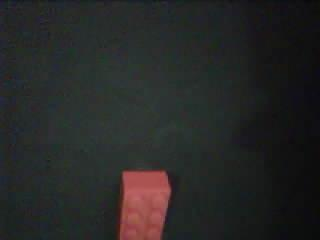lego: (115, 170, 171, 240)
